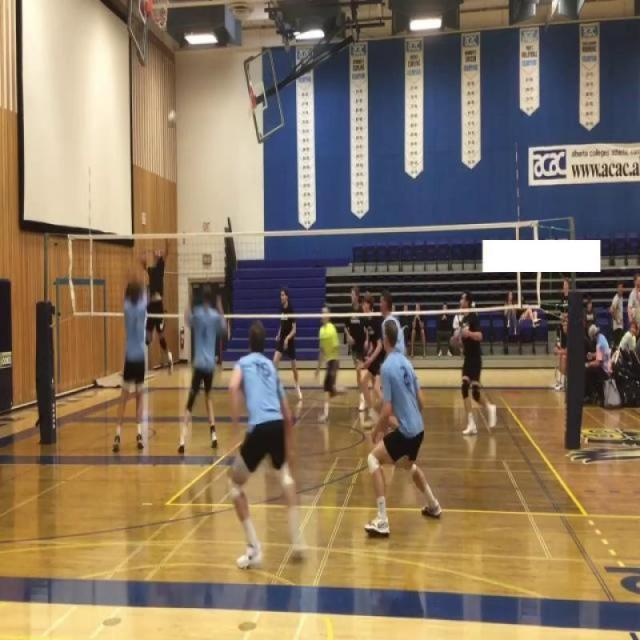volleyball: (168, 111, 176, 130), (215, 355, 219, 363)
